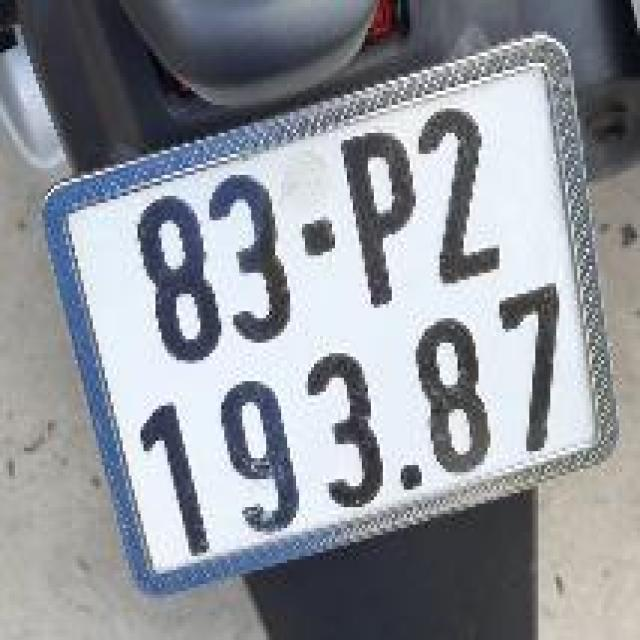1: (123, 387, 238, 569)
2: (402, 88, 515, 300)
3: (200, 153, 307, 352), (292, 331, 398, 519)
7: (484, 267, 581, 464)
8: (123, 179, 233, 375), (402, 302, 501, 480)
9: (208, 363, 315, 545)
P: (326, 109, 439, 317)
